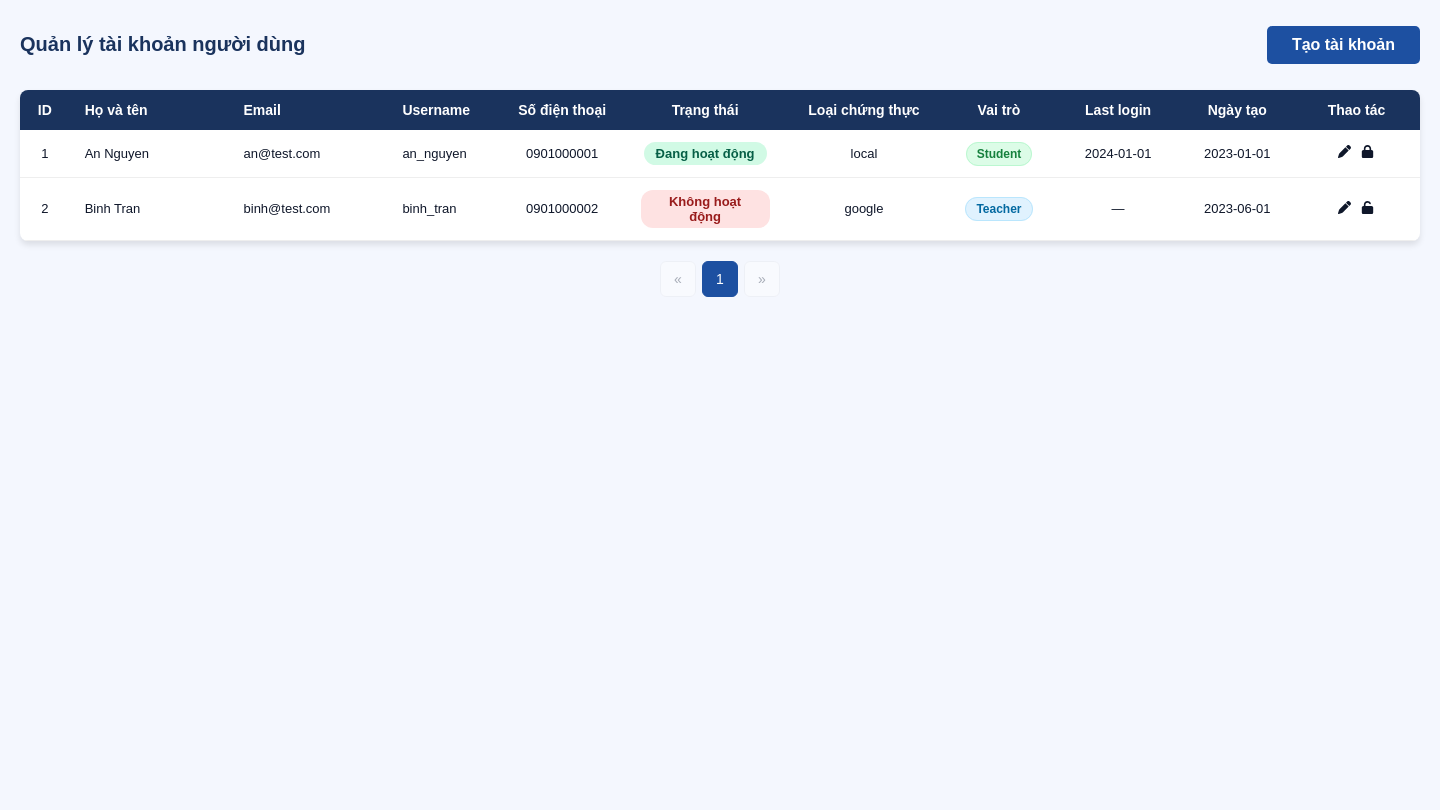
Test: 3. Edit user › ACC-007 không cho submit khi bỏ trống tên
Expected: the text "an_nguyen" is shown, [387,130,499,177]
Step 1. Click the 1st icon with class "icon-edit" → (1345, 154), box [1338,146,1351,161]
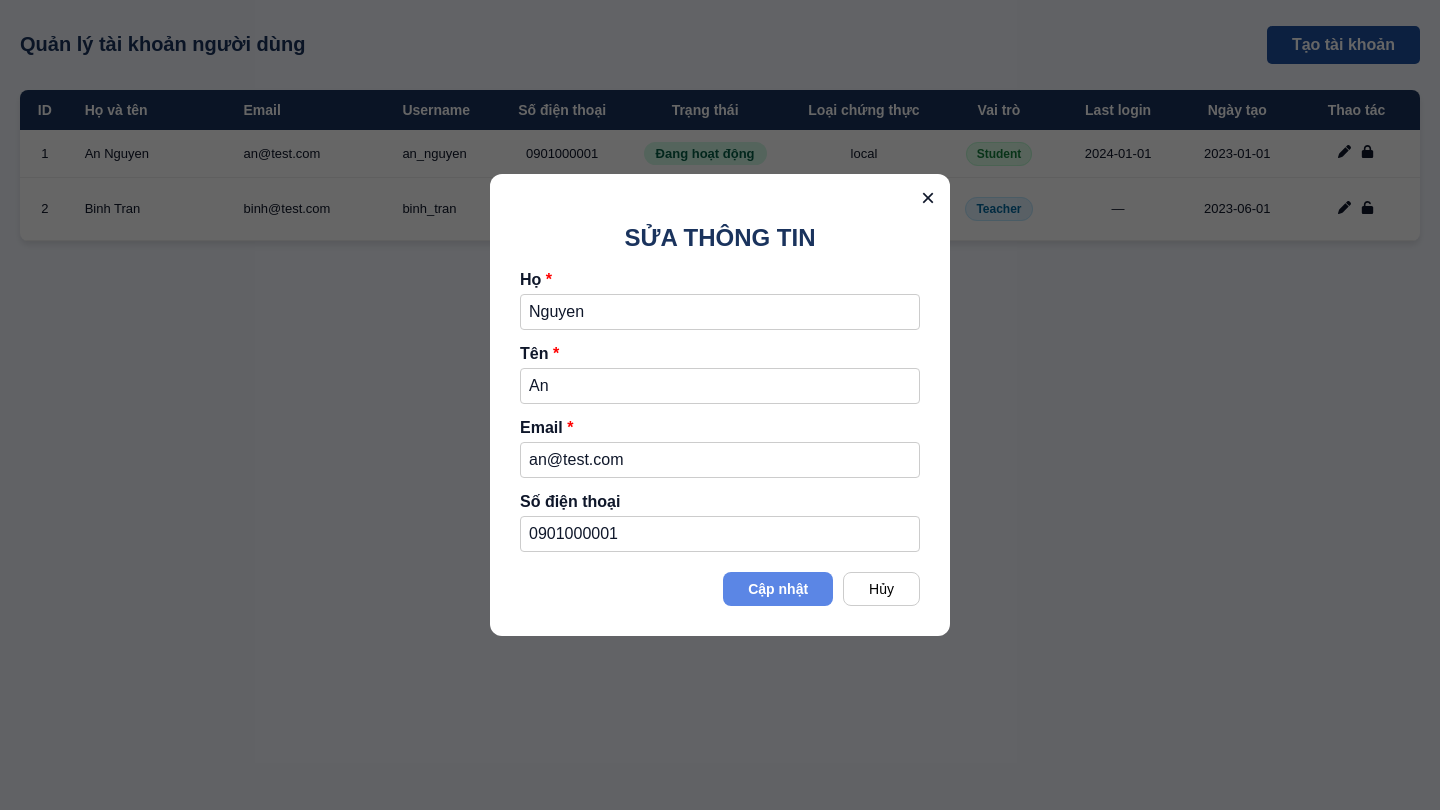
Step 2. Clear the 2nd field showing "An" → (720, 386), box [520,368,920,404]
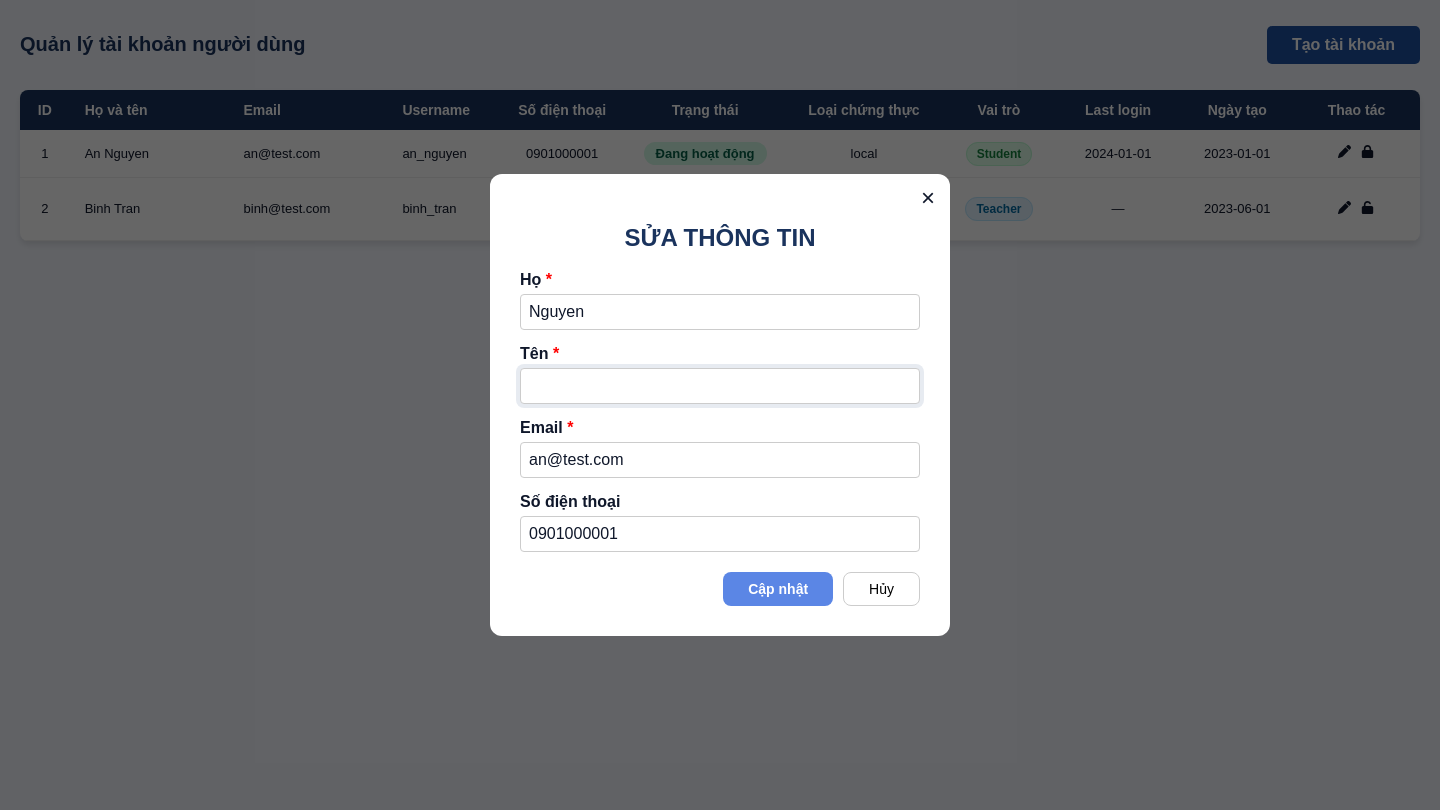
Step 3. Click the button "Cập nhật" → (778, 589), box [723,572,833,606]
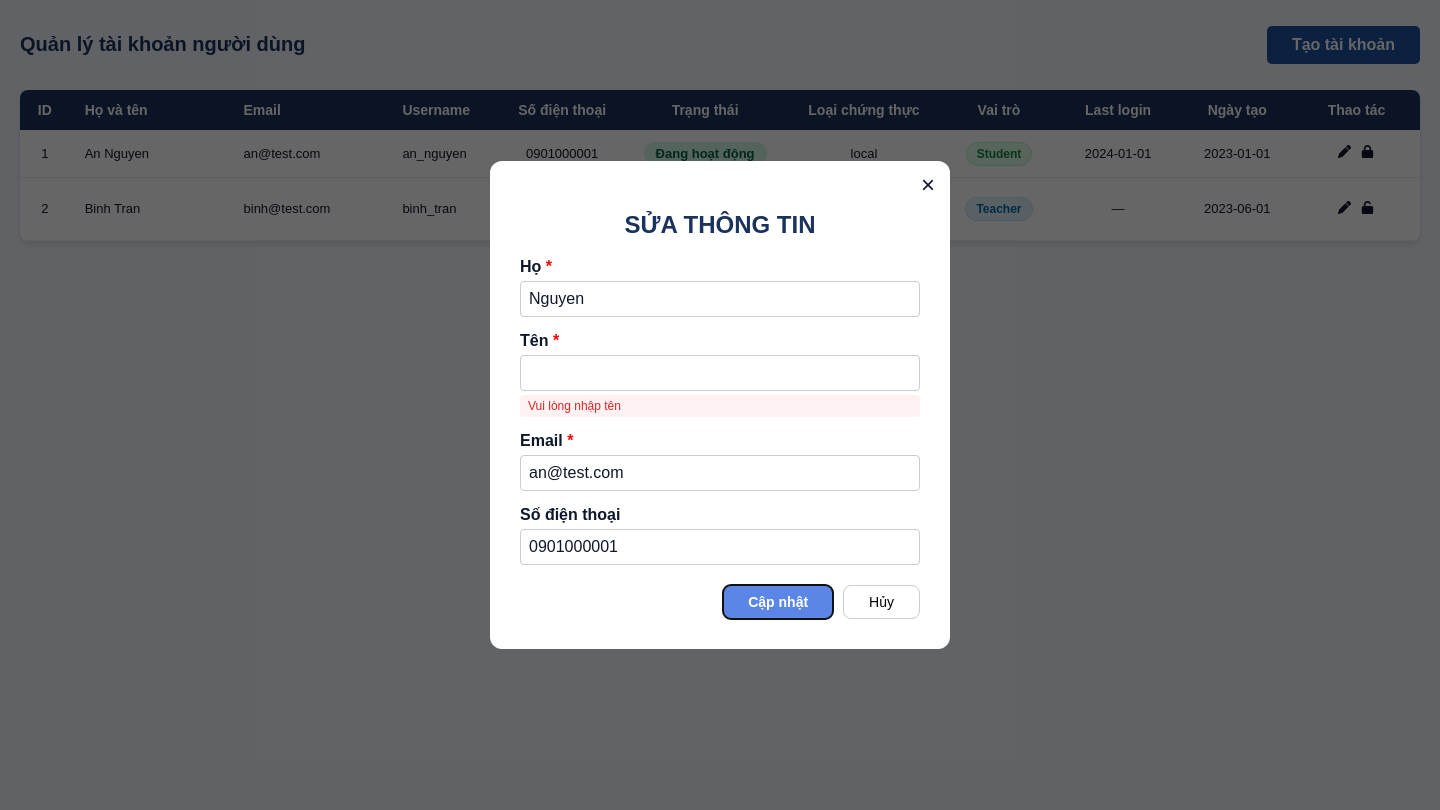
Expected: the text "Vui lòng nhập tên" is shown, [520,395,920,417]
